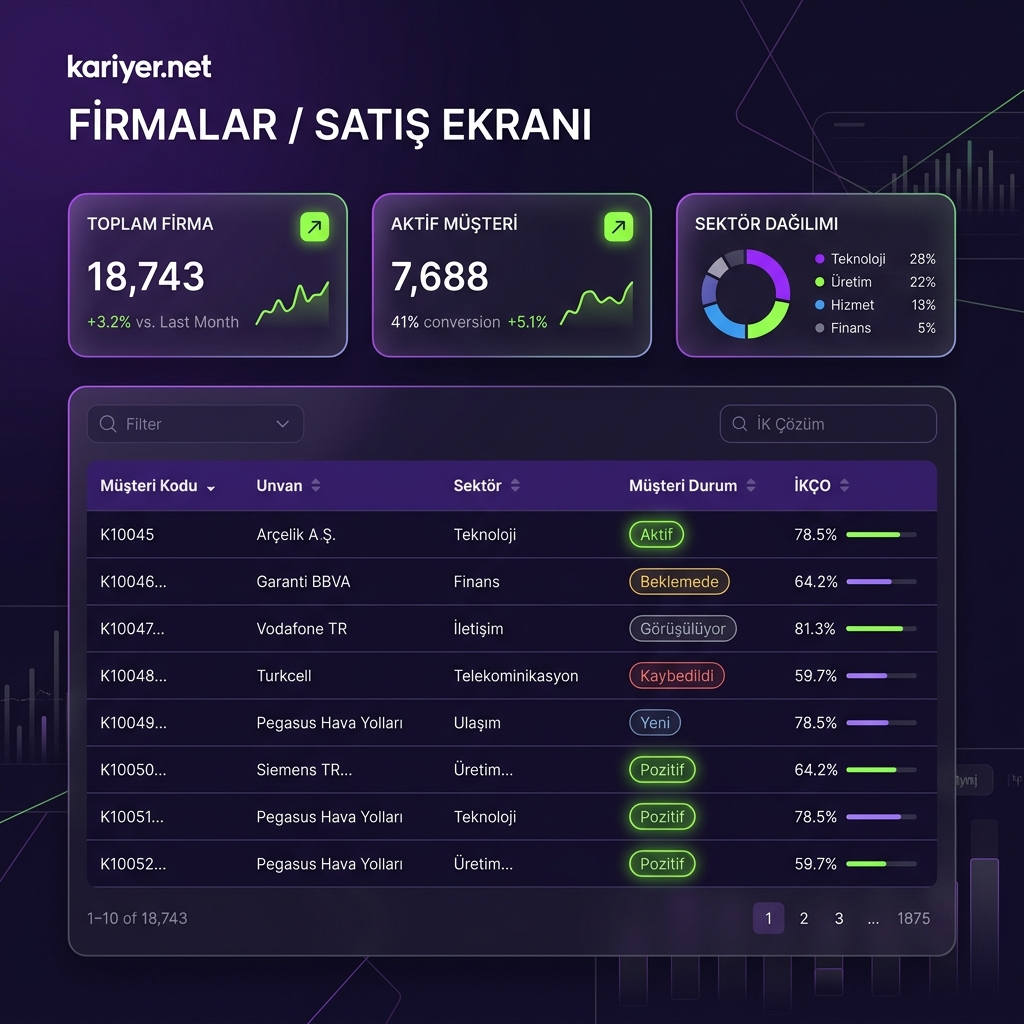

The dashboard page shown, as its layout file describes it:
{"tool":"powerbi","page":{"name":"Firmalar","canvas":[1280,720],"ordinal":0},"visuals":[{"type":"shape","box":[0,0,1280,60],"z":0},{"type":"shape","box":[0,84.8,633.1,46],"z":1000},{"type":"shape","box":[642.4,84.4,633.7,46],"z":2000},{"type":"slicer","fields":{"Values":["Teklif.MusteriDurum"]},"box":[0,0,147.5,58.7],"z":3000},{"type":"slicer","fields":{"Values":["Teklif.IKCO"]},"box":[344.2,0,143.2,58.7],"z":4000},{"type":"slicer","fields":{"Values":["Teklif.Firma"]},"box":[147.5,0,196.7,58.7],"z":5000},{"type":"slicer","fields":{"Values":["Satış.MusteriDurum"]},"box":[792.3,-0.4,147.5,58.7],"z":6000},{"type":"slicer","fields":{"Values":["Satış.unvan"]},"box":[939.8,-0.4,196.7,58.7],"z":7000},{"type":"slicer","fields":{"Values":["Satış.IKCO"]},"box":[1136.5,-0.4,143.2,58.7],"z":8000},{"type":"tableEx","fields":{"Values":["Teklif.MusteriKodu","Teklif.Firma","Teklif.SektorAdi","Teklif.MusteriDurum","Teklif.IKCO"]},"box":[0,131.3,640,588.4],"z":9000},{"type":"tableEx","fields":{"Values":["Satış.Müşteri Kodu","Satış.unvan","Satış.SektorAdi","Satış.MusteriDurum","Satış.IKCO"]},"box":[640,131.3,640,588.4],"z":10000},{"type":"shape","box":[339.2,95.6,98.1,23.7],"z":11000},{"type":"shape","box":[978.8,95.7,98,23.5],"z":12000}]}

Visuals, with their boxes on the page's 1280x720 design canvas (x1, y1, x2, y2). These are canvas units, not pixel positions in the 1024x1024 screenshot, which may show the page scaled, cropped or inside an application window:
shape: crop(0, 0, 1280, 60)
shape: crop(0, 85, 633, 131)
shape: crop(642, 84, 1276, 130)
slicer - Teklif.MusteriDurum: crop(0, 0, 148, 59)
slicer - Teklif.IKCO: crop(344, 0, 487, 59)
slicer - Teklif.Firma: crop(148, 0, 344, 59)
slicer - Satış.MusteriDurum: crop(792, 0, 940, 58)
slicer - Satış.unvan: crop(940, 0, 1136, 58)
slicer - Satış.IKCO: crop(1136, 0, 1280, 58)
tableEx - Teklif.MusteriKodu x Teklif.Firma: crop(0, 131, 640, 720)
tableEx - Satış.Müşteri Kodu x Satış.unvan: crop(640, 131, 1280, 720)
shape: crop(339, 96, 437, 119)
shape: crop(979, 96, 1077, 119)
